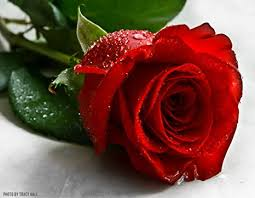rose: (86, 32, 243, 184)
